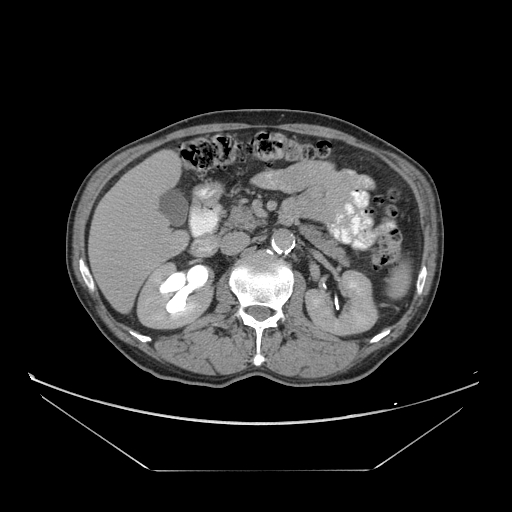left_kidney: (136, 258, 217, 330)
right_kidney: (299, 267, 381, 335)
